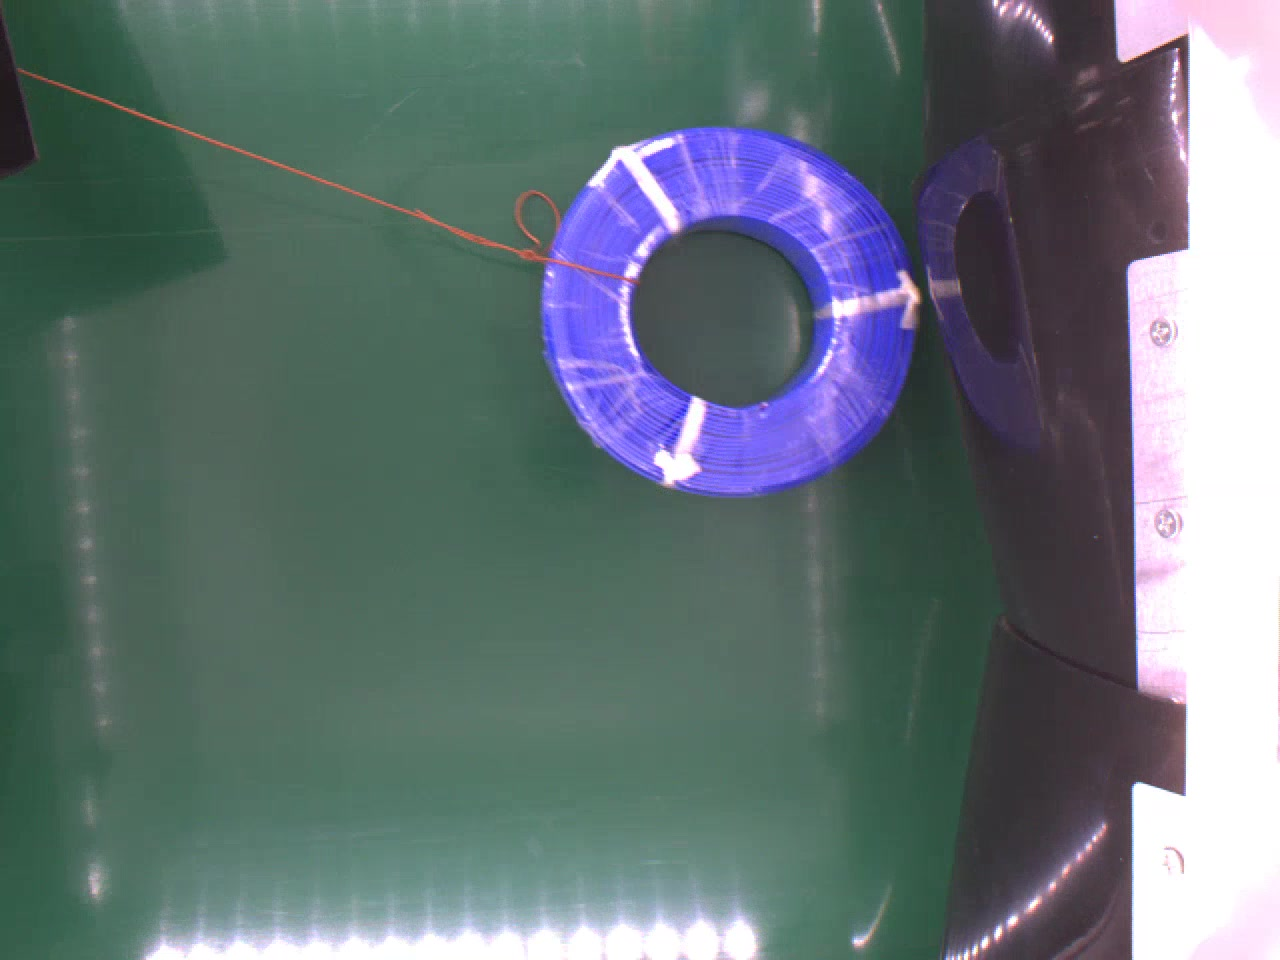blue: (540, 122, 922, 491)
